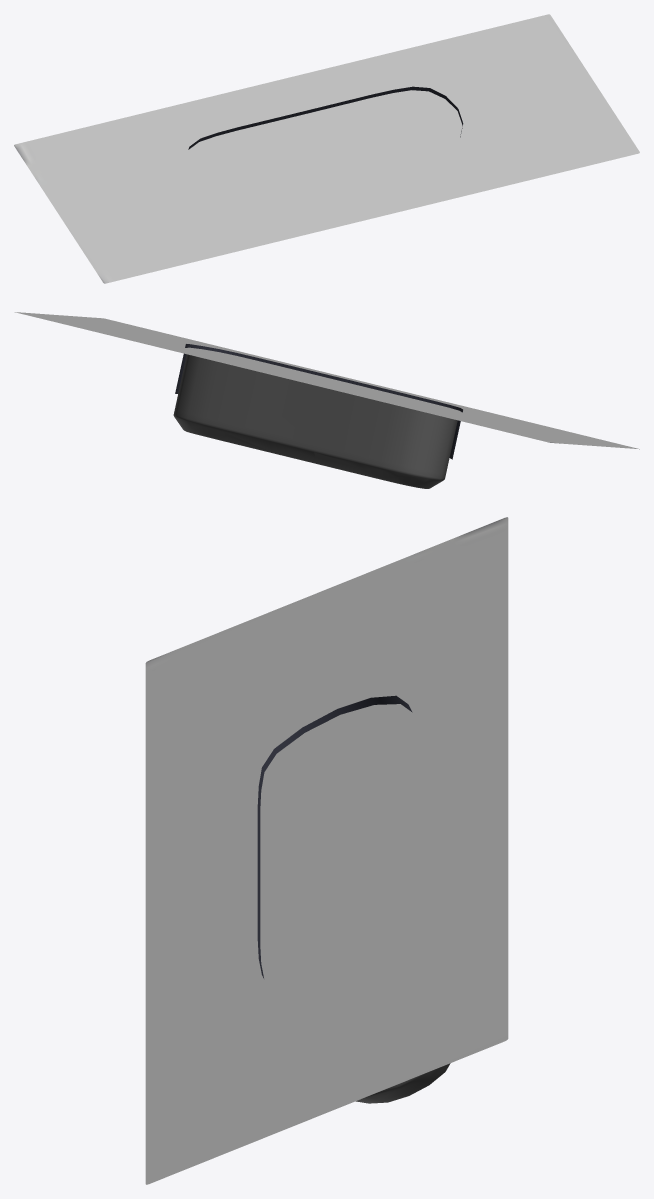
File: btn_mute.obj
The picture shows the model from 3 angles, top to bottom: view 1: azimuth 30°, elevation 25°; view 2: azimuth 150°, elevation 25°; view 3: azimuth 270°, elevation 25°; orthographic projection. The views are drawn at different scales.
Parts seen in each view (by area): view 1: btn_mute; view 2: btn_mute; view 3: btn_mute.
Boxes of the visible parts, left/top/right/bottom form: btn_mute: left=14, top=14, right=639, bottom=283; btn_mute: left=14, top=312, right=639, bottom=488; btn_mute: left=145, top=517, right=508, bottom=1184.
Size of the model in its own units: 0.2047 by 0.0404 by 0.06.
